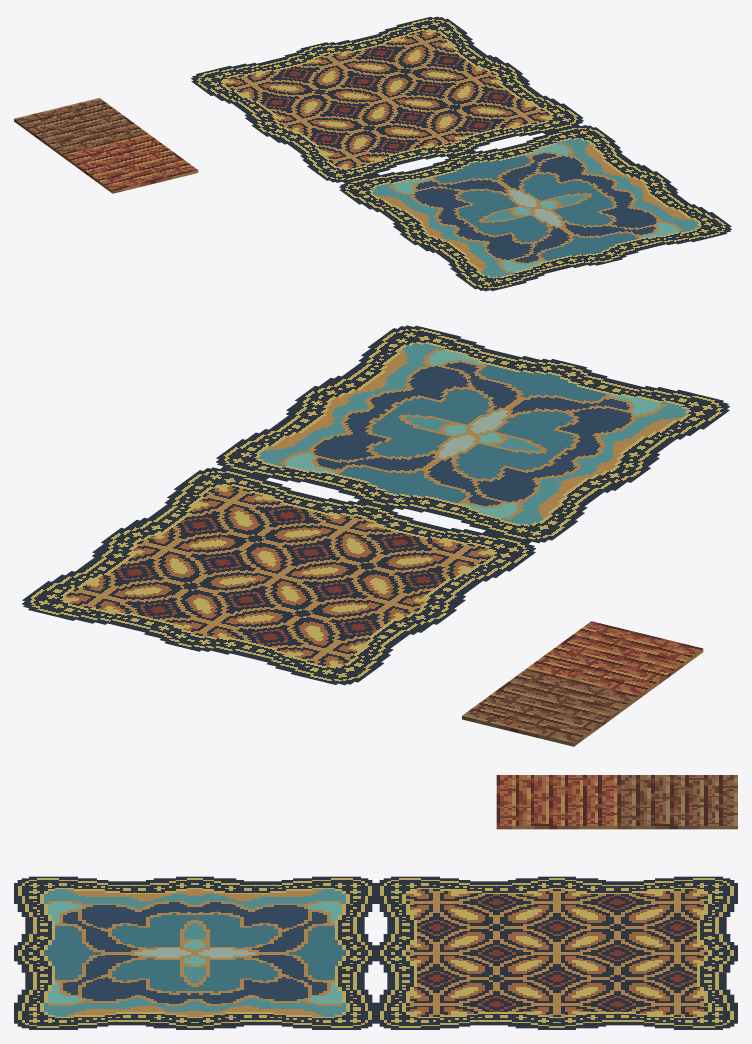
The model's file is Wood & Carpet.gltf.
The picture shows the model from 3 angles, top to bottom: view 1: azimuth 30°, elevation 25°; view 2: azimuth 150°, elevation 25°; view 3: azimuth 270°, elevation 25°; orthographic projection. The views are drawn at different scales.
Visible parts, largest first — view 1: cube (×20); view 2: cube (×20); view 3: cube (×20).
Part boxes in pixels (x1=…): cube (×20): x1=14, y1=16, x2=731, y2=291; cube (×20): x1=22, y1=325, x2=729, y2=746; cube (×20): x1=14, y1=775, x2=737, y2=1029.
Size of the model in its own units: 10 by 0.0688 by 12.
1 material, 1 textured.
